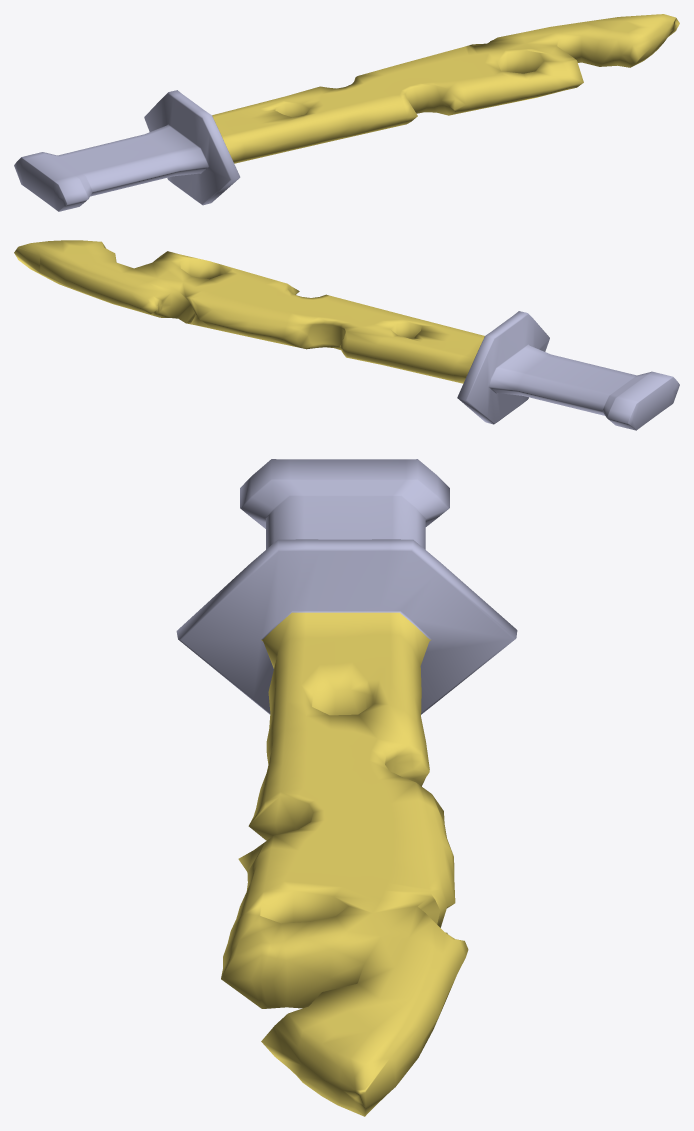
Rendered from CHEESESWORD.fbx.
The picture shows the model from 3 angles, top to bottom: view 1: azimuth 30°, elevation 25°; view 2: azimuth 150°, elevation 25°; view 3: azimuth 270°, elevation 25°; orthographic projection. The views are drawn at different scales.
Visible parts, largest first — view 1: cheesesword; view 2: cheesesword; view 3: cheesesword.
Part boxes in pixels (<box>): cheesesword: <box>14,14,679,211</box>; cheesesword: <box>14,240,679,430</box>; cheesesword: <box>176,459,517,1116</box>.
Bounding box in the file's own units: 183 × 23.94 × 42.57.
